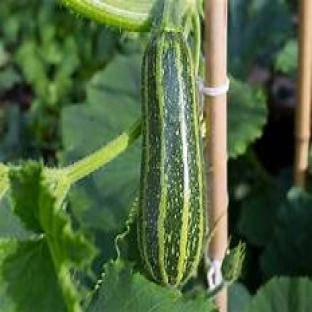Zucchini: (139, 31, 205, 286)
